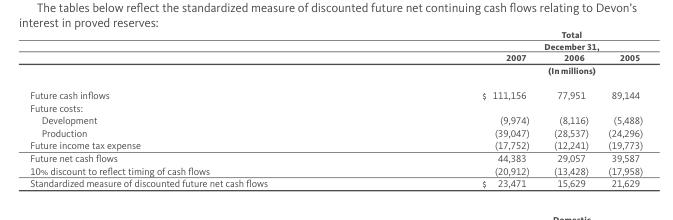table: (29, 29, 642, 188)
table column: (29, 29, 374, 188), (374, 29, 540, 188), (540, 29, 597, 188), (597, 29, 642, 188)
table column header: (29, 29, 642, 81)
table projected row header: (29, 100, 642, 113)
table row: (29, 29, 642, 51), (29, 81, 642, 100), (29, 63, 642, 81), (29, 100, 642, 113), (29, 113, 642, 126), (29, 138, 642, 151), (29, 163, 642, 176), (29, 51, 642, 63), (29, 126, 642, 138), (29, 151, 642, 163), (29, 176, 642, 188)
table spanning cell: (374, 29, 642, 51), (374, 63, 642, 81)
